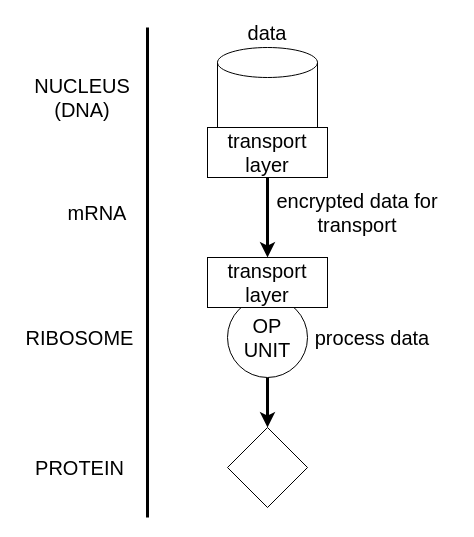
Image size: 474x537. Some labels were removed from this diagram. The centre of each missing label's shape, as x and y in pixels:
DB: pixel 267 97
OUTPUT: pixel 267 467
